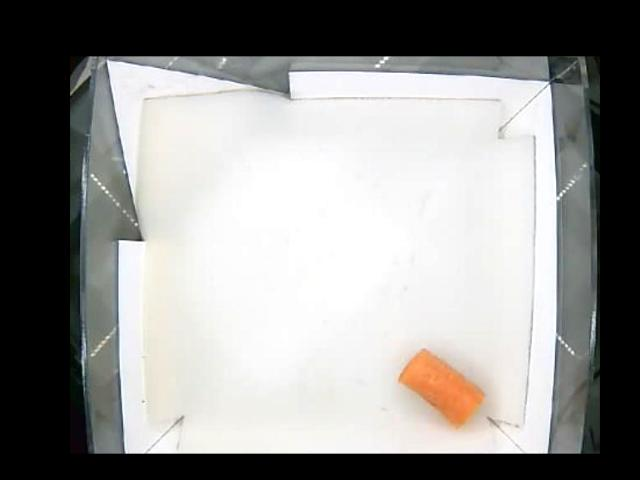Carrot: (400, 347, 484, 429)
